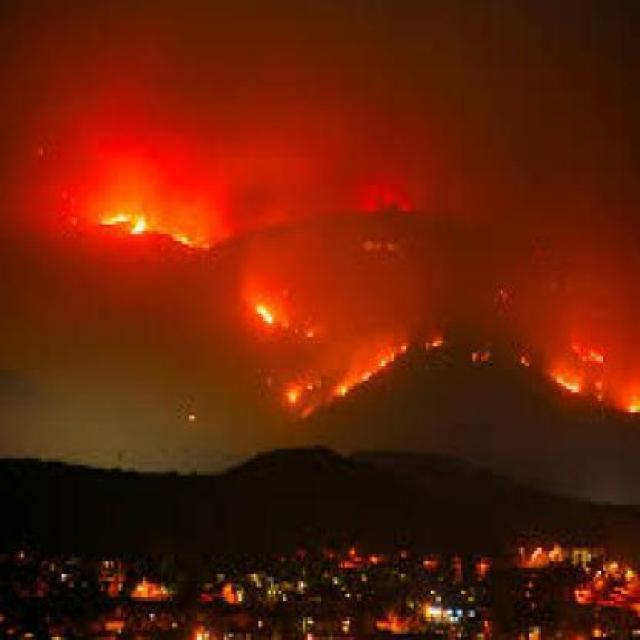Fire: (91, 182, 218, 278), (247, 278, 315, 350)
